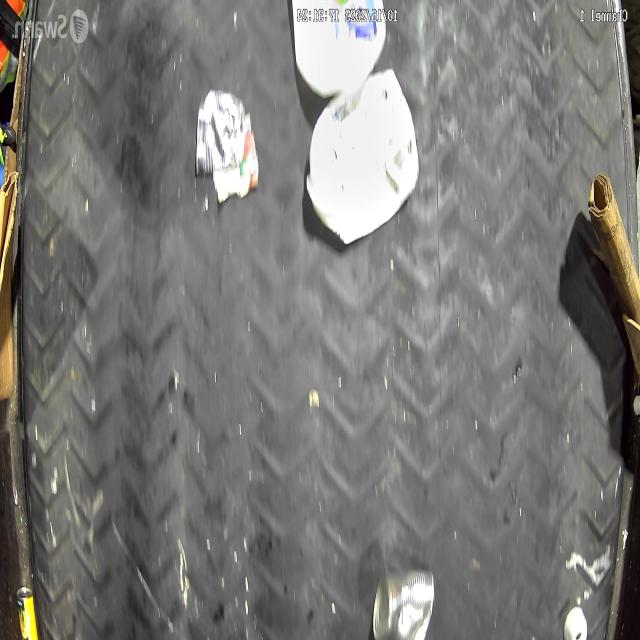can: (370, 557, 440, 640), (198, 88, 251, 182)
milk_jug: (306, 58, 416, 264), (288, 0, 388, 105)
